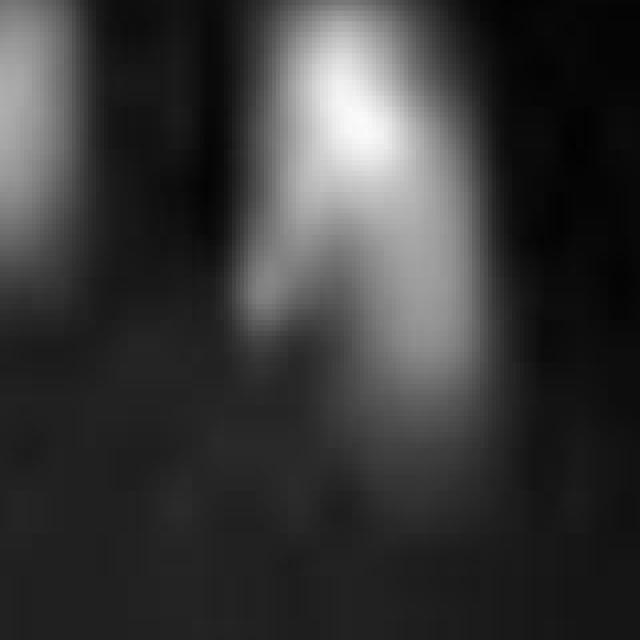person: (221, 1, 477, 540), (1, 1, 85, 316)
